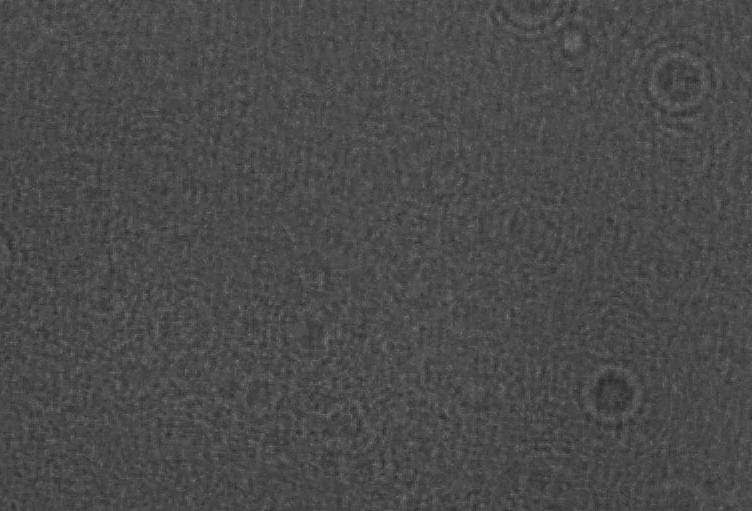bead: (621, 33, 738, 131), (567, 356, 656, 440), (463, 0, 584, 42)
